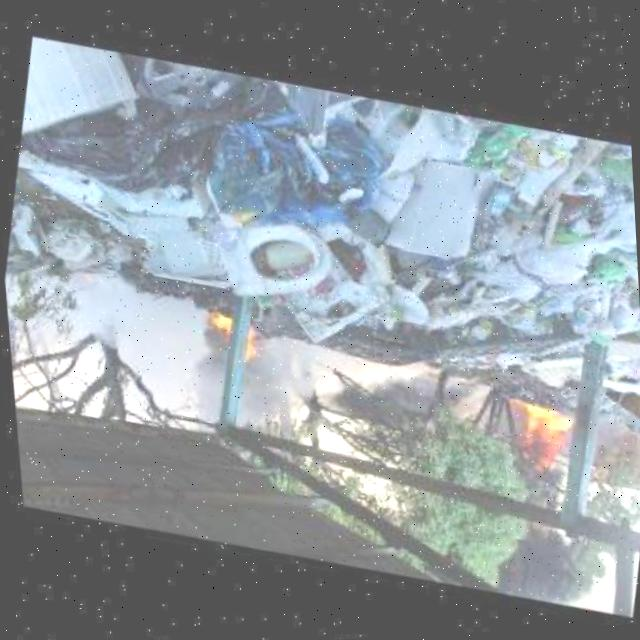fire: (498, 406, 576, 484), (204, 311, 236, 347), (235, 333, 261, 375)
